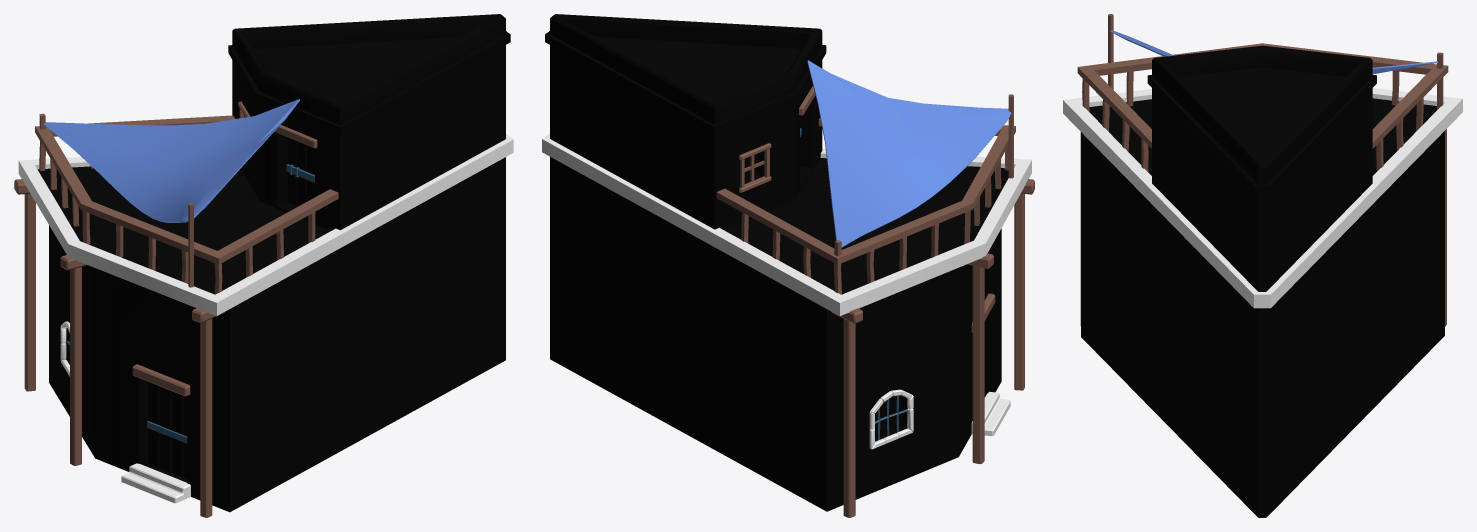
The model's file is civilian_house_30_e.FBX.
The picture shows the model from 3 angles, left to right: view 1: azimuth 30°, elevation 25°; view 2: azimuth 150°, elevation 25°; view 3: azimuth 270°, elevation 25°; orthographic projection. The views are drawn at different scales.
Parts seen in each view (by area): view 1: civilian_house_30_e_LOD0; view 2: civilian_house_30_e_LOD0; view 3: civilian_house_30_e_LOD0.
Boxes of the visible parts, <box> form: civilian_house_30_e_LOD0: <box>14,14,513,517</box>; civilian_house_30_e_LOD0: <box>542,14,1034,517</box>; civilian_house_30_e_LOD0: <box>1063,14,1462,517</box>.
Size of what is drawn, in the model's own units: 1268 by 933 by 960.
